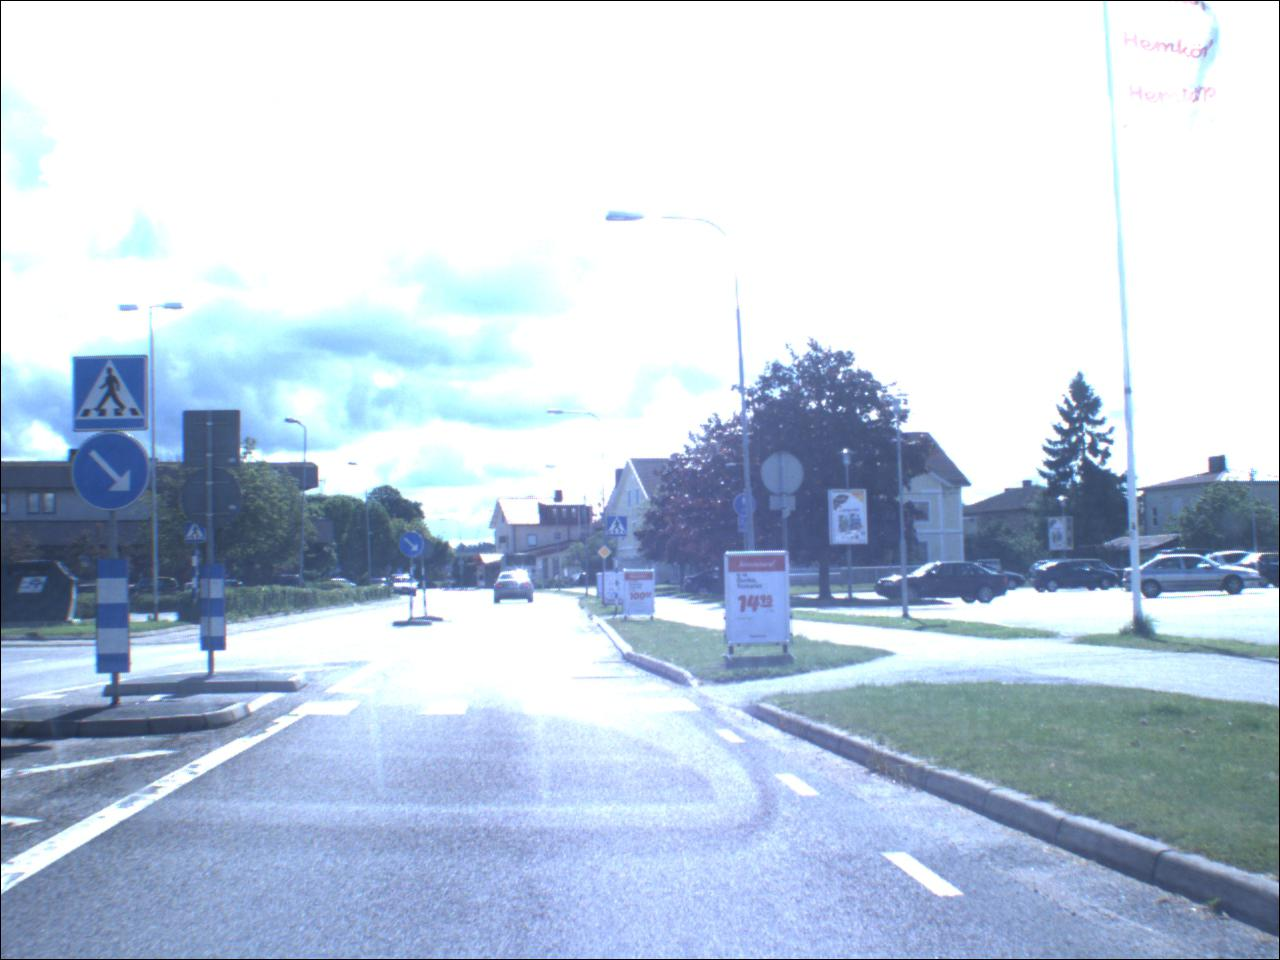PASS_RIGHT_SIDE: (75, 434, 152, 514), (400, 533, 428, 560)
PEDESTRIAN_CROSSING: (74, 358, 151, 432), (186, 523, 209, 545), (609, 518, 630, 539)
PRIORITY_ROAD: (599, 546, 616, 562)
